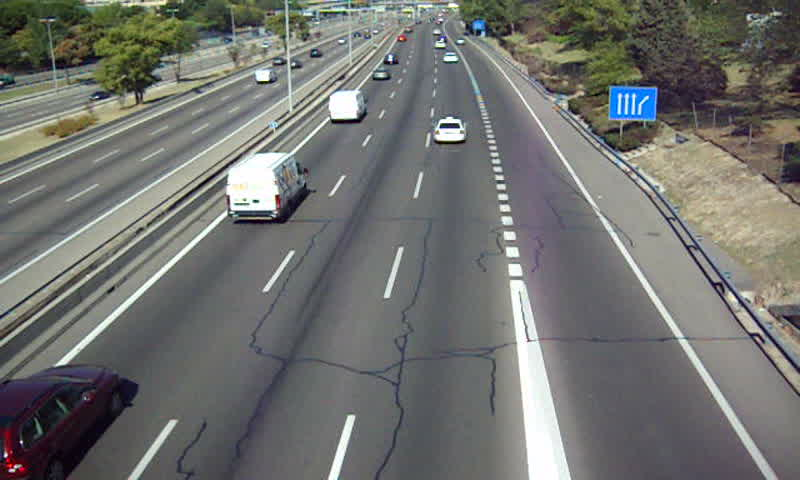car: (1, 363, 122, 480), (434, 117, 465, 143), (370, 69, 390, 82), (383, 52, 398, 67), (442, 52, 459, 65)
van: (226, 152, 310, 222), (328, 91, 365, 123)
